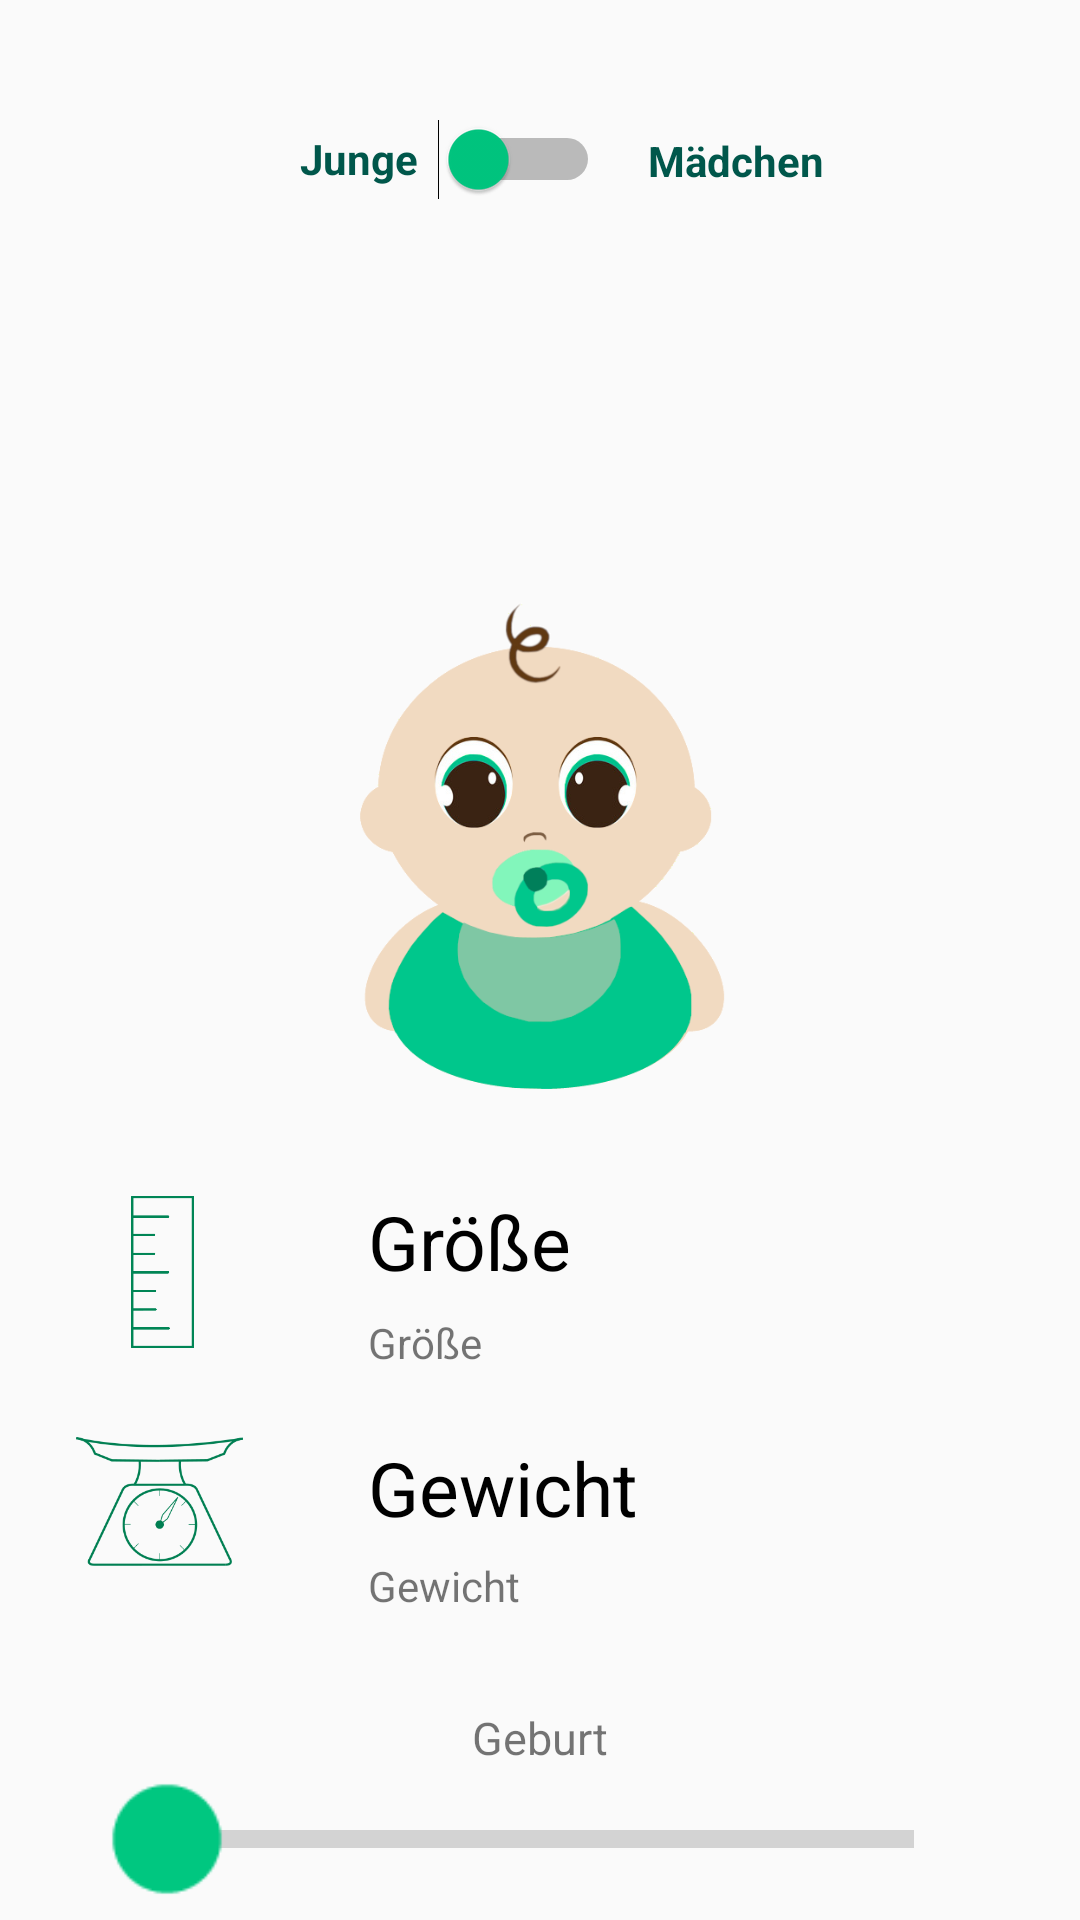

Icons on this 1080 × 1920 Android screen, each with its box as (x1, y1, x2, y2):
lineal: (131, 1196, 194, 1348)
waage fertig: (76, 1437, 243, 1566)
